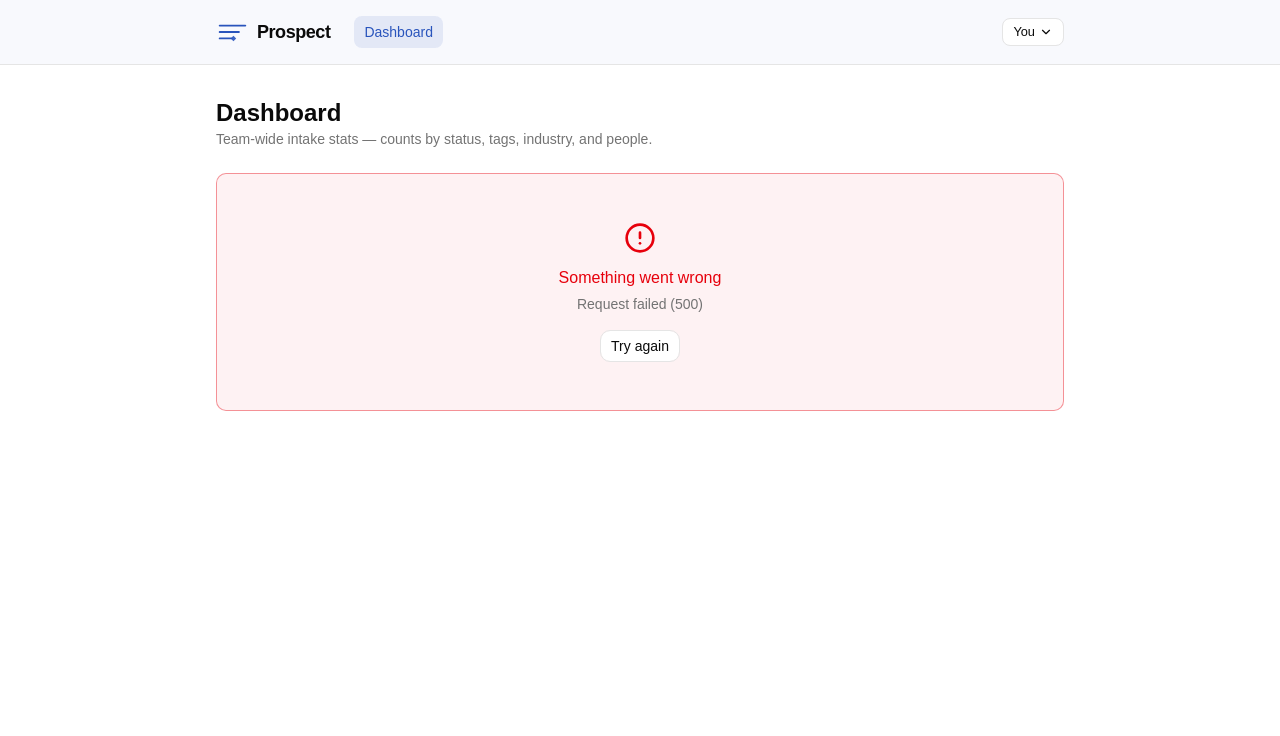
it: Dashboard › surfaces an error with a retry that refetches
Expected: the message shows "Request failed (500)", [577,296,703,312]
Click the button "Try again" at {"x": 640, "y": 346}, box [600,330,680,362]
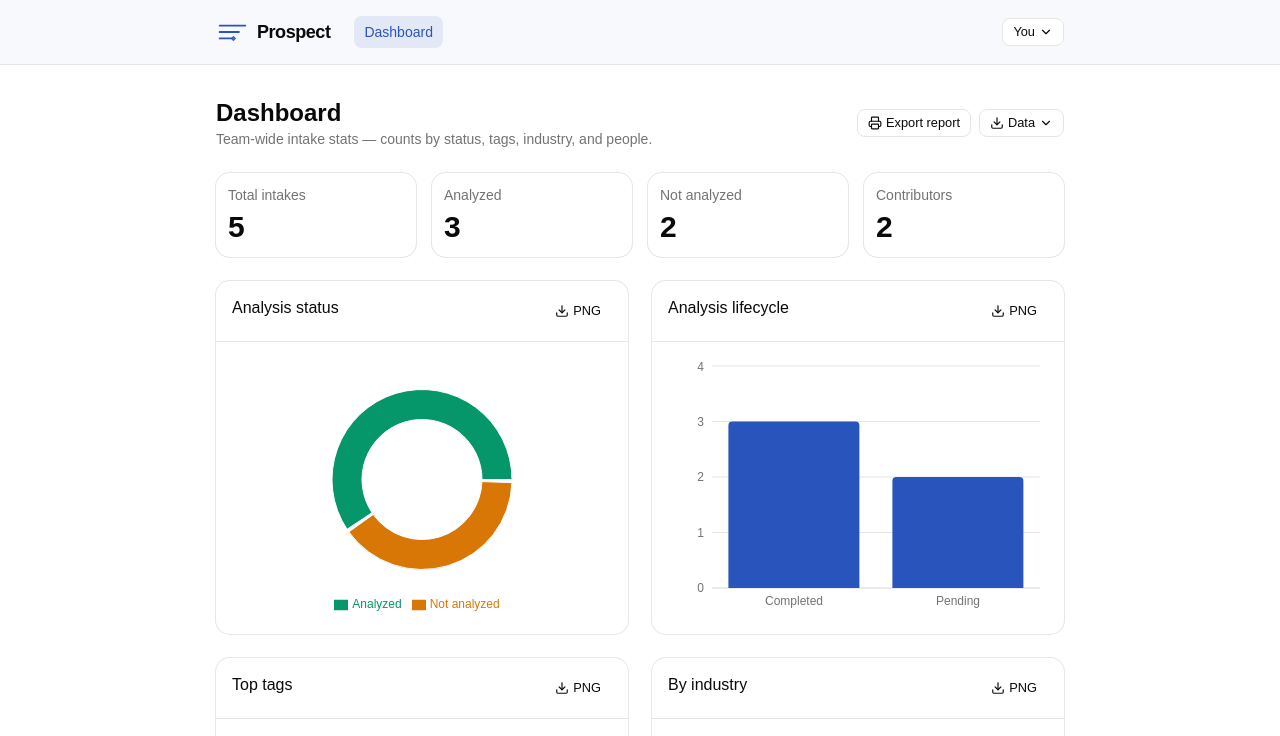
Expected: the text "Total intakes" is shown, [228,187,306,203]
